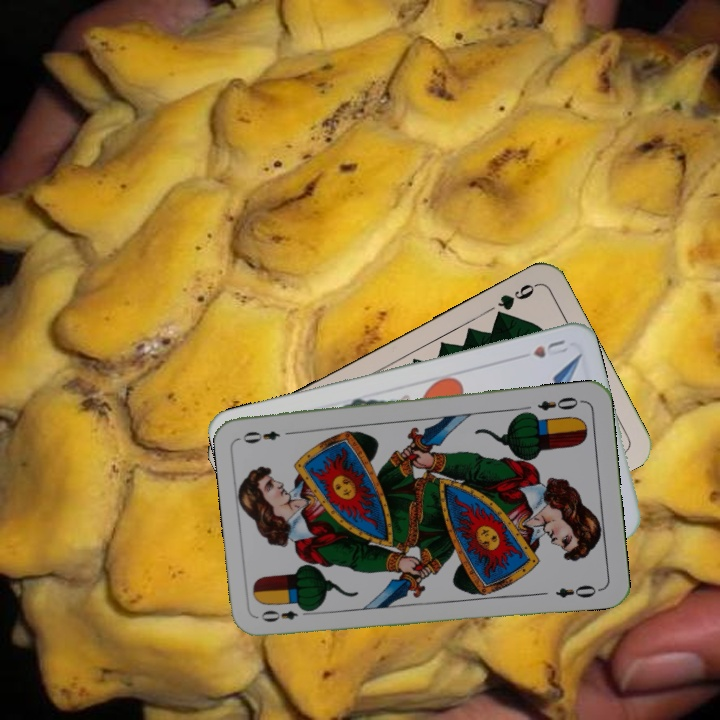EO: (257, 602, 315, 625), (534, 392, 586, 413)
G9: (490, 279, 540, 323)
HU: (529, 336, 571, 361)
